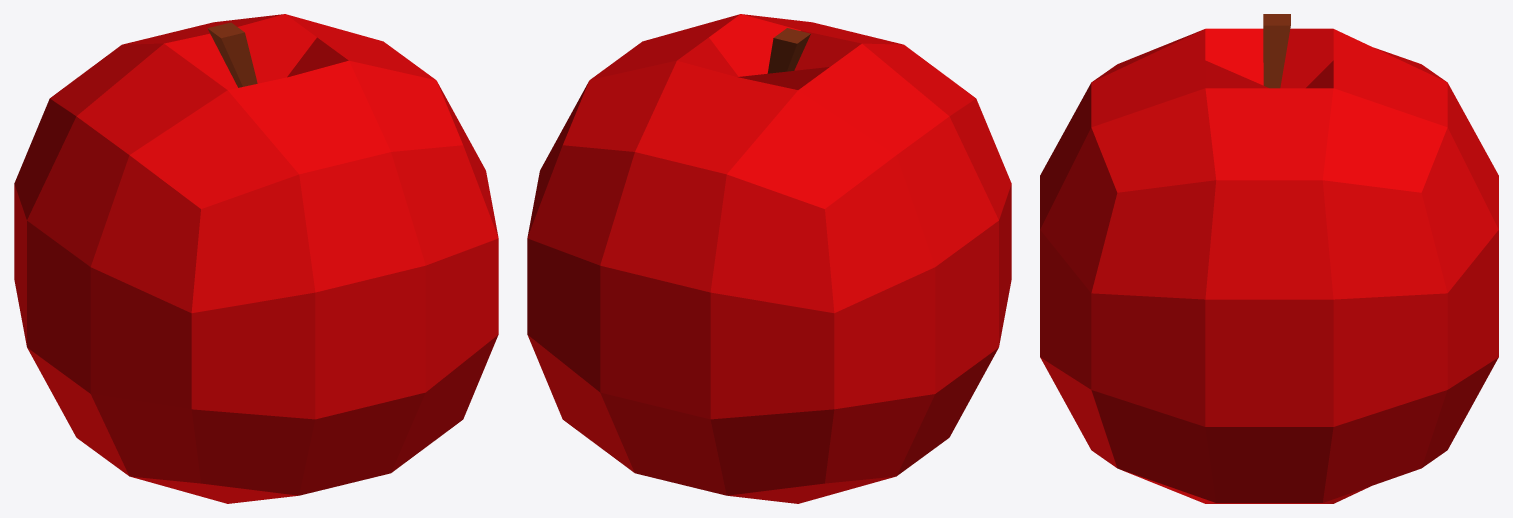
The model's file is Apple.fbx.
The picture shows the model from 3 angles, left to right: view 1: azimuth 30°, elevation 25°; view 2: azimuth 150°, elevation 25°; view 3: azimuth 270°, elevation 25°; orthographic projection.
Visible parts, largest first — view 1: Cube; view 2: Cube; view 3: Cube.
Part boxes in pixels (x1,y1,x2,y2): Cube: (14, 14, 498, 503); Cube: (527, 14, 1011, 503); Cube: (1040, 14, 1498, 503).
Size of the model in its own units: 97.26 by 103 by 97.26.
